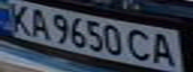0: (103, 22, 127, 56)
5: (84, 19, 106, 53)
6: (66, 16, 87, 48)
9: (45, 11, 72, 45)
A: (145, 30, 181, 69), (24, 6, 51, 39)
C: (124, 27, 157, 62)
K: (3, 1, 36, 35)
